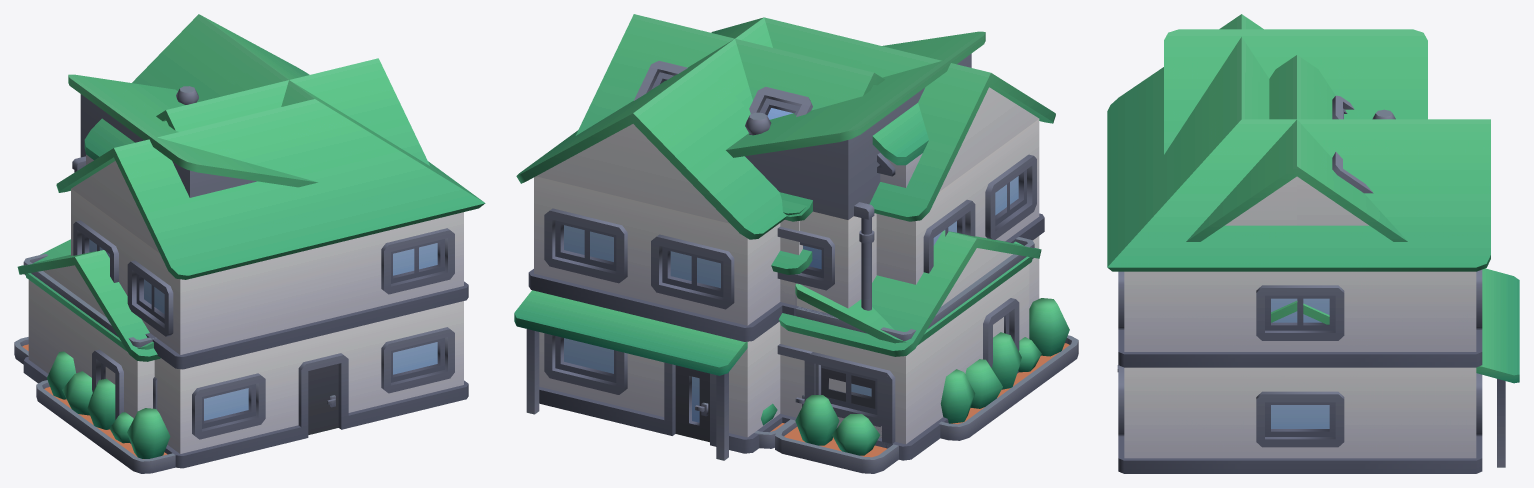
Rendered from suburb.glb.
3 views of the same model, side by side, from view 1: azimuth 30°, elevation 25°; view 2: azimuth 150°, elevation 25°; view 3: azimuth 270°, elevation 25° (orthographic). The views are drawn at different scales.
Visible parts, largest first — view 1: building-type-f, building-type-o, building-type-k, building-type-a, building-type-c; view 2: building-type-f, building-type-o, building-type-k, building-type-a, building-type-c; view 3: building-type-f, building-type-k, building-type-o, building-type-a.
Part boxes in pixels (x1,y1,x2,y2): building-type-f: [36, 14, 485, 473]; building-type-o: [23, 58, 429, 443]; building-type-k: [68, 74, 317, 197]; building-type-a: [14, 250, 160, 409]; building-type-c: [25, 239, 153, 384]; building-type-f: [514, 17, 1078, 460]; building-type-o: [575, 14, 1034, 460]; building-type-k: [726, 31, 985, 406]; building-type-a: [771, 230, 1041, 473]; building-type-c: [777, 200, 1032, 459]; building-type-f: [1107, 14, 1519, 473]; building-type-k: [1164, 29, 1427, 154]; building-type-o: [1186, 55, 1407, 241]; building-type-a: [1271, 300, 1329, 324].
Size of the model in its own units: 2.5 by 2.01 by 2.46.
Materials: 1 (1 with a texture image).
